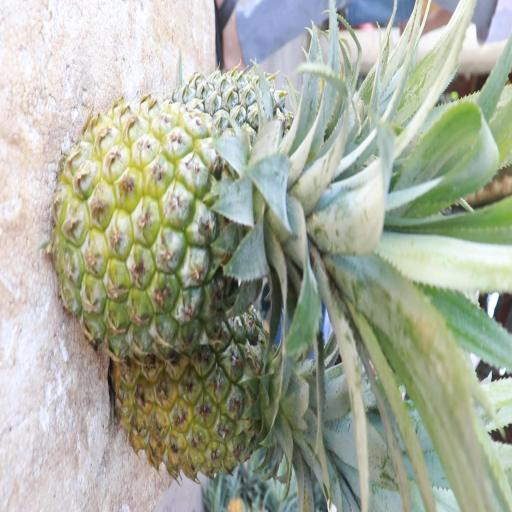------------------------------: (51, 103, 352, 354)
Pineapple - v8 v1: (111, 312, 348, 478)
